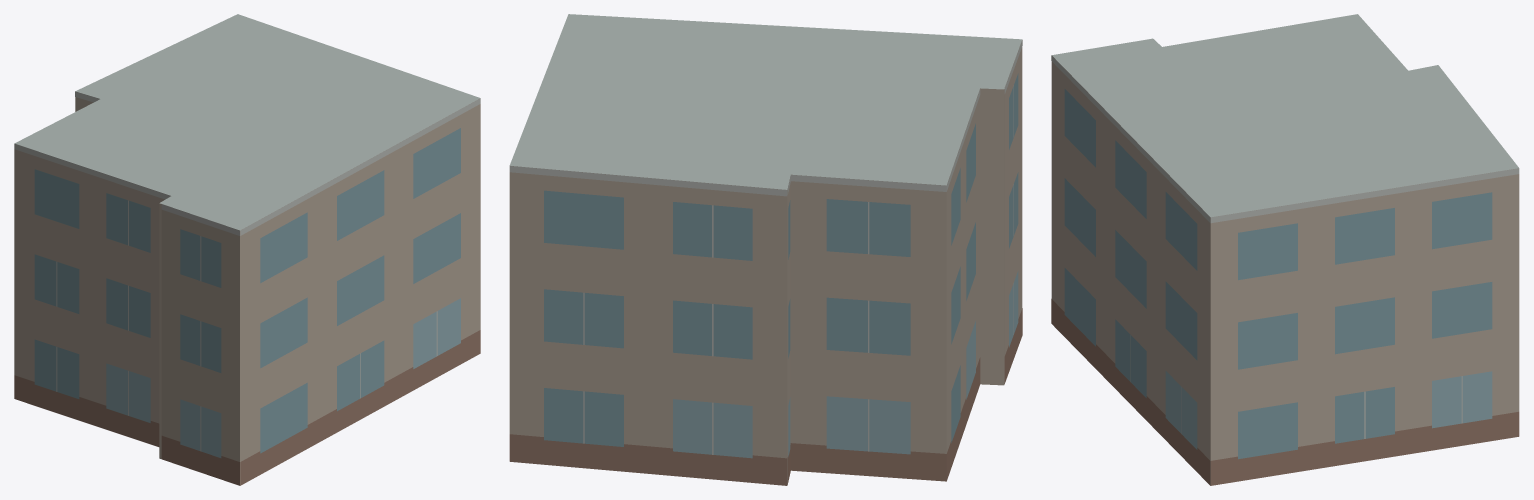
The model's file is survey-upis-32948512.glb.
3 views of the same model, side by side, from view 1: azimuth 30°, elevation 25°; view 2: azimuth 150°, elevation 25°; view 3: azimuth 270°, elevation 25° (orthographic). The views are drawn at different scales.
Parts seen in each view (by area): view 1: survey-upis-32948512.tmp; view 2: survey-upis-32948512.tmp; view 3: survey-upis-32948512.tmp.
Part boxes in pixels (left/top/right/bottom): survey-upis-32948512.tmp: left=14, top=14, right=480, bottom=485; survey-upis-32948512.tmp: left=509, top=14, right=1022, bottom=485; survey-upis-32948512.tmp: left=1051, top=14, right=1519, bottom=485.
Bounding box in the file's own units: 17.96 × 11.05 × 17.46.
